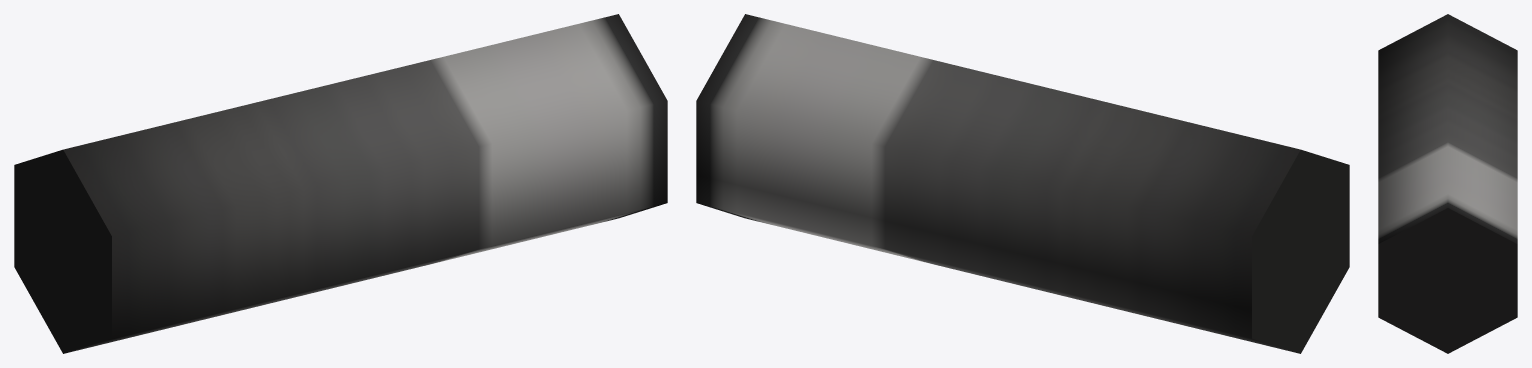
Rendered from shell.FBX.
The picture shows the model from 3 angles, left to right: view 1: azimuth 30°, elevation 25°; view 2: azimuth 150°, elevation 25°; view 3: azimuth 270°, elevation 25°; orthographic projection. The views are drawn at different scales.
Parts seen in each view (by area): view 1: Cylinder002; view 2: Cylinder002; view 3: Cylinder002.
Part boxes in pixels (<box>): Cylinder002: <box>14,14,667,353</box>; Cylinder002: <box>696,14,1349,353</box>; Cylinder002: <box>1378,14,1517,353</box>.
Bounding box in the file's own units: 0.844 × 0.2967 × 0.2569.
1 material, 1 textured.
